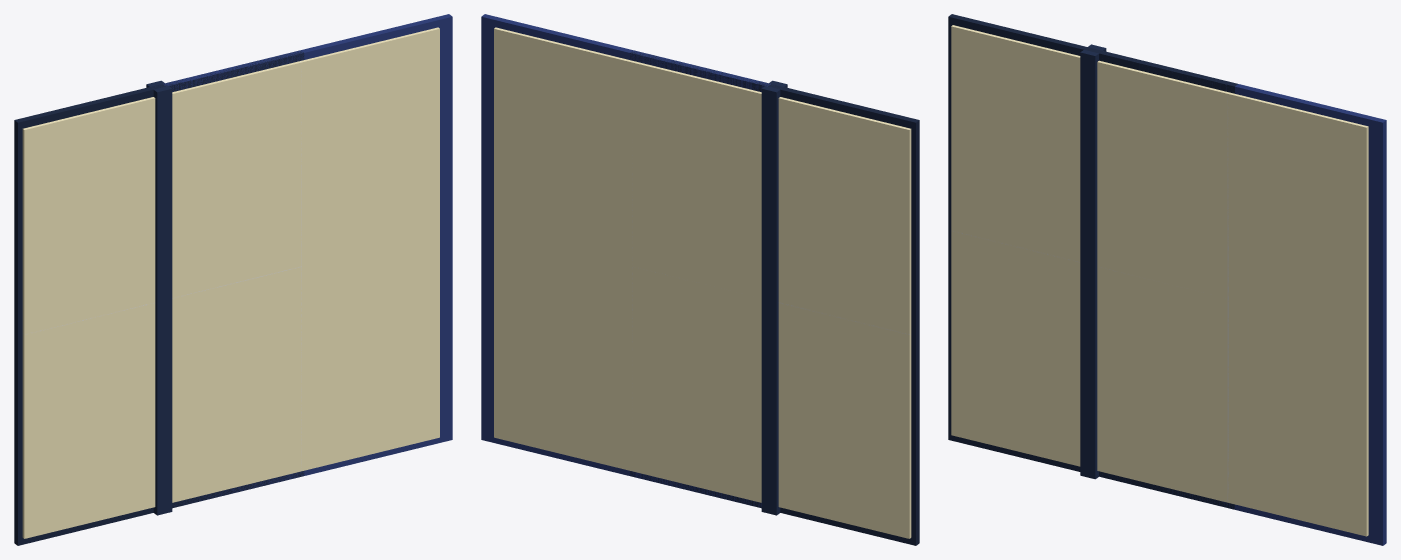
Rendered from book.glb.
3 renders of one model, left to right at view 1: azimuth 30°, elevation 25°; view 2: azimuth 150°, elevation 25°; view 3: azimuth 330°, elevation 25°, orthographic.
Size of the model in its own units: 4.12 by 3.83 by 0.18.
